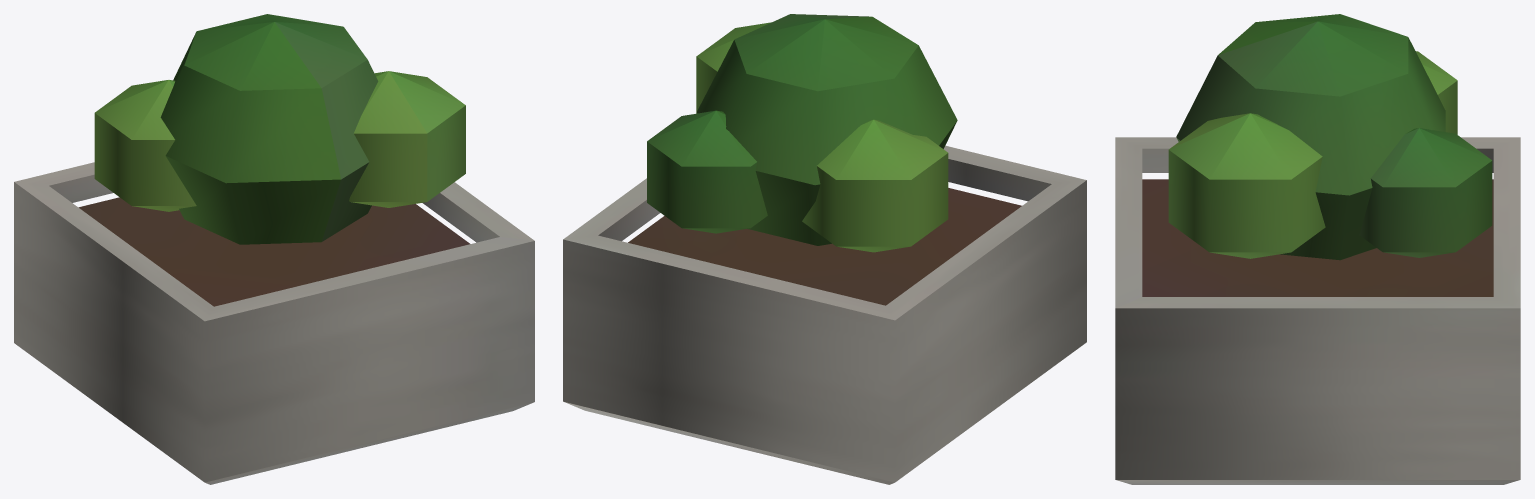
Rendered from jardiniere_beton_lod1.glb.
3 renders of one model, left to right at view 1: azimuth 30°, elevation 25°; view 2: azimuth 150°, elevation 25°; view 3: azimuth 270°, elevation 25°, orthographic. The views are drawn at different scales.
Parts seen in each view (by area): view 1: jardiniere_beton; view 2: jardiniere_beton; view 3: jardiniere_beton.
Boxes of the visible parts, x1,y1,x2,y2 form: jardiniere_beton: (14,14,534,484); jardiniere_beton: (563,14,1086,484); jardiniere_beton: (1115,14,1520,484).
Bounding box in the file's own units: 1.2 × 1.26 × 1.2.
1 material, 1 textured.
